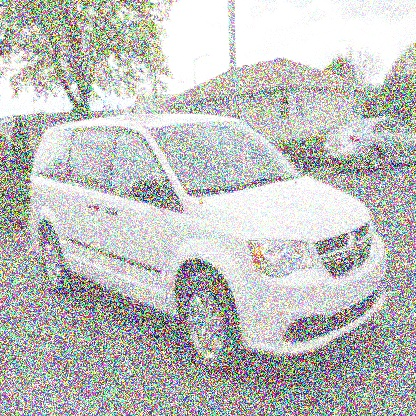Vehicle: (27, 107, 390, 364)
